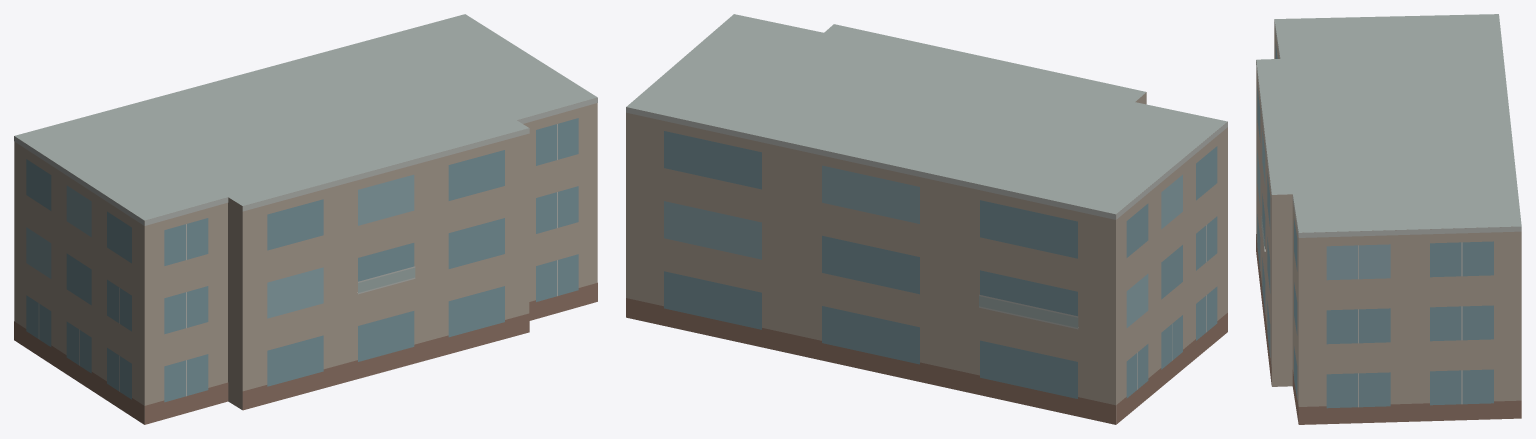
The model's file is survey-upis-32603123.glb.
3 views of the same model, side by side, from view 1: azimuth 30°, elevation 25°; view 2: azimuth 150°, elevation 25°; view 3: azimuth 270°, elevation 25° (orthographic). The views are drawn at different scales.
Parts seen in each view (by area): view 1: survey-upis-32603123.tmp; view 2: survey-upis-32603123.tmp; view 3: survey-upis-32603123.tmp.
Boxes of the visible parts, left/top/right/bottom form: survey-upis-32603123.tmp: left=14, top=14, right=597, bottom=424; survey-upis-32603123.tmp: left=626, top=14, right=1227, bottom=424; survey-upis-32603123.tmp: left=1256, top=14, right=1521, bottom=424.
Size of the model in its own units: 22.38 by 9.15 by 11.48.
